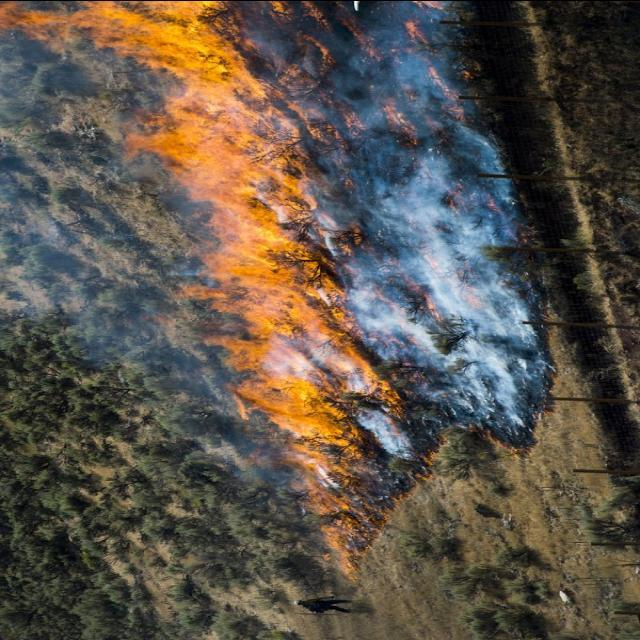Fire: (4, 2, 412, 526)
